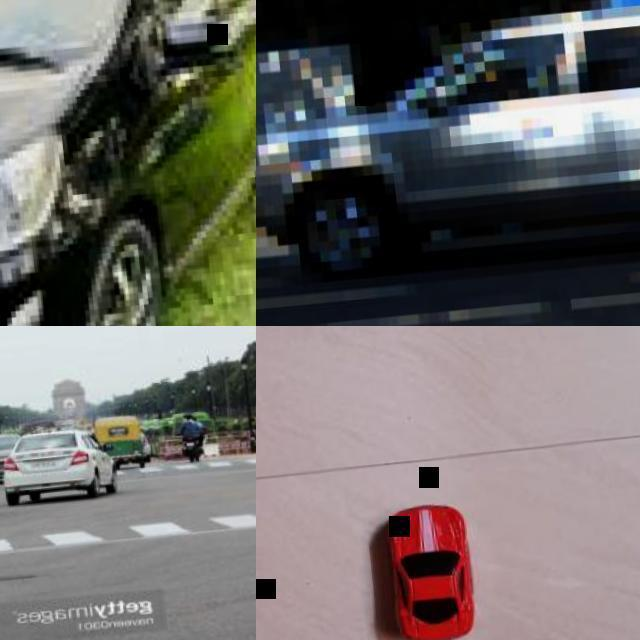car: (41, 15, 188, 317), (373, 505, 474, 638), (3, 425, 116, 502), (177, 412, 205, 460)
